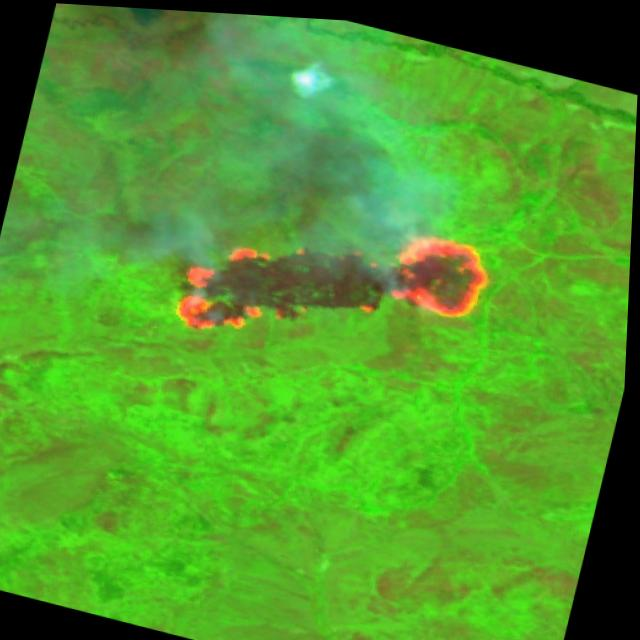fire: (159, 161, 505, 394)
